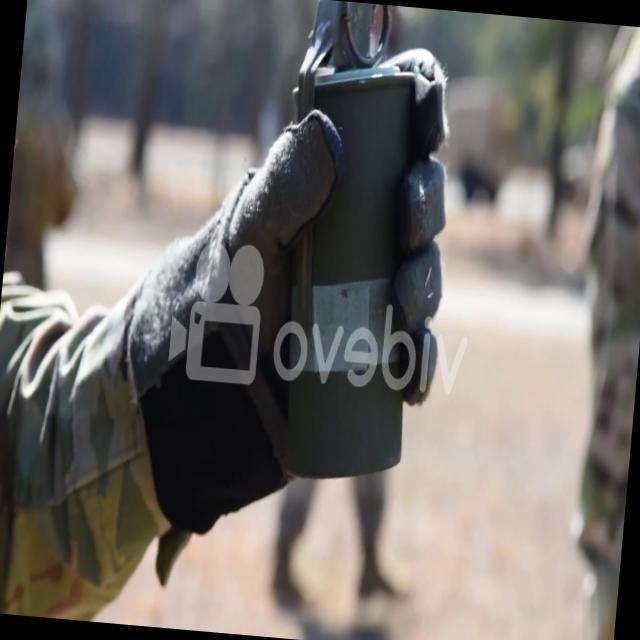grenade: (263, 0, 446, 484)
